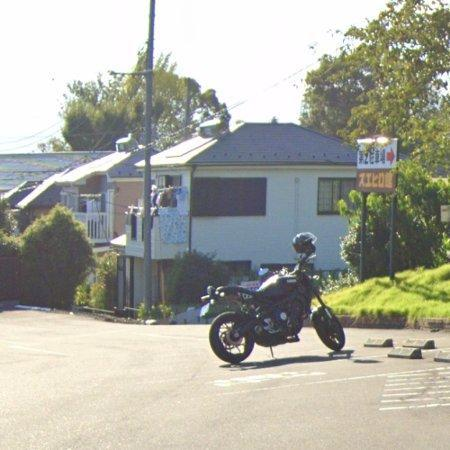motorcycles: (204, 233, 345, 364)
